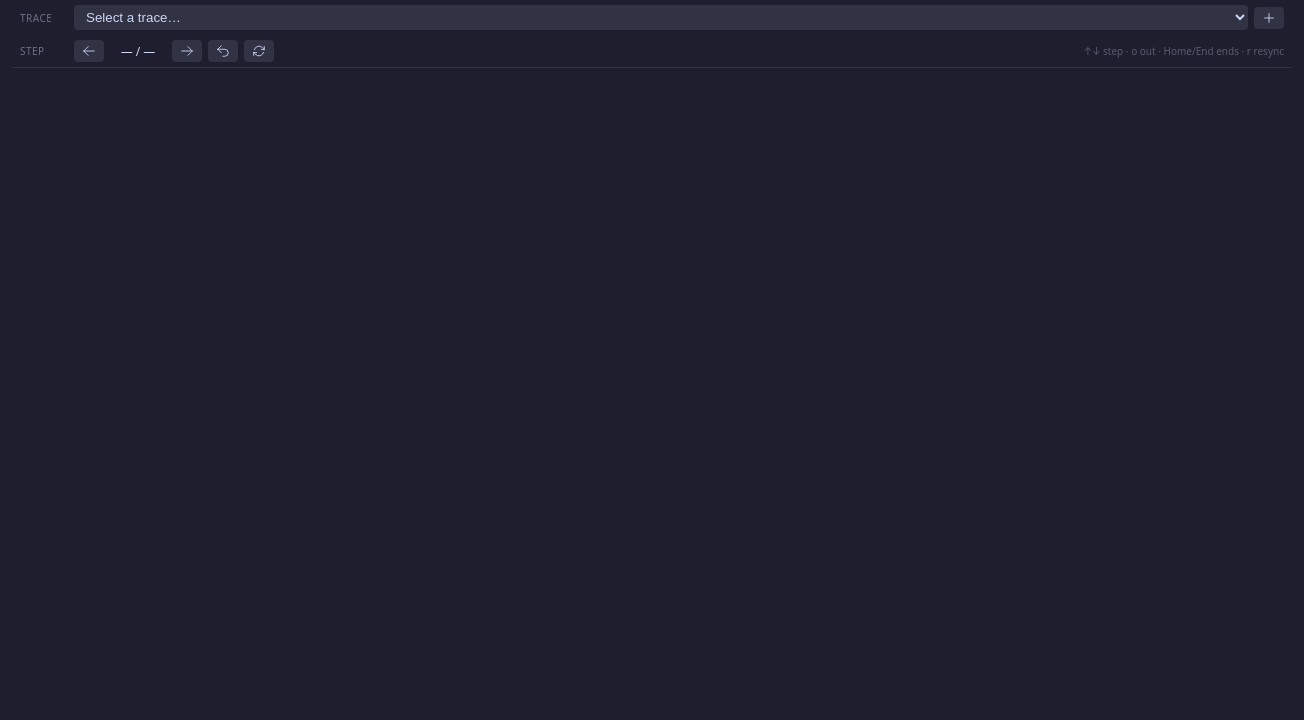
Scenario: DebugWalkthroughTile › step out › returns to the caller when the button is pressed
Select "pty::tests::resolves_shell (3 steps)" in the dropdown named "Trace": (661, 18) x1=74 y1=5 x2=1248 y2=30
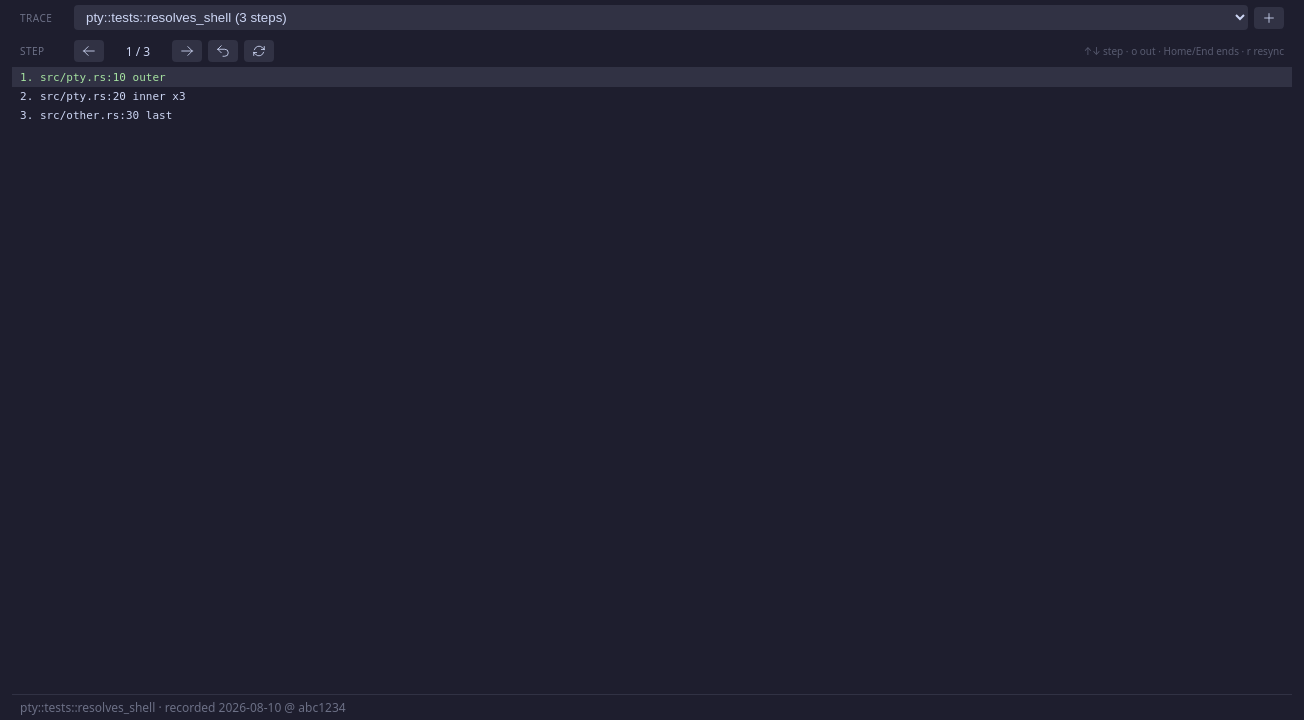
Expected: the button with test id "walkthrough-step-current" is shown, x1=12 y1=68 x2=1292 y2=87
Click the button named "Next step": (187, 51) x1=172 y1=40 x2=202 y2=62
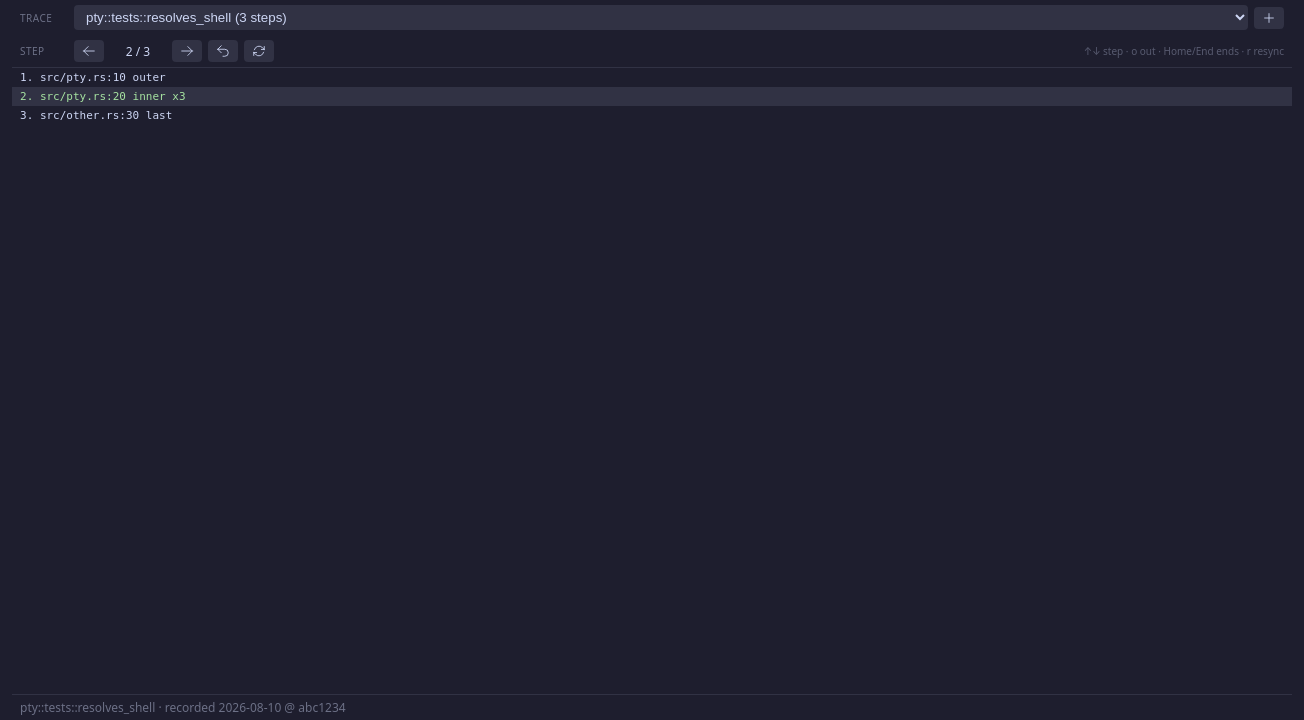
Expected: the text with test id "walkthrough-progress" reads "2 / 3", x1=126 y1=42 x2=150 y2=60
Click the button named "Step out": (223, 51) x1=208 y1=40 x2=238 y2=62
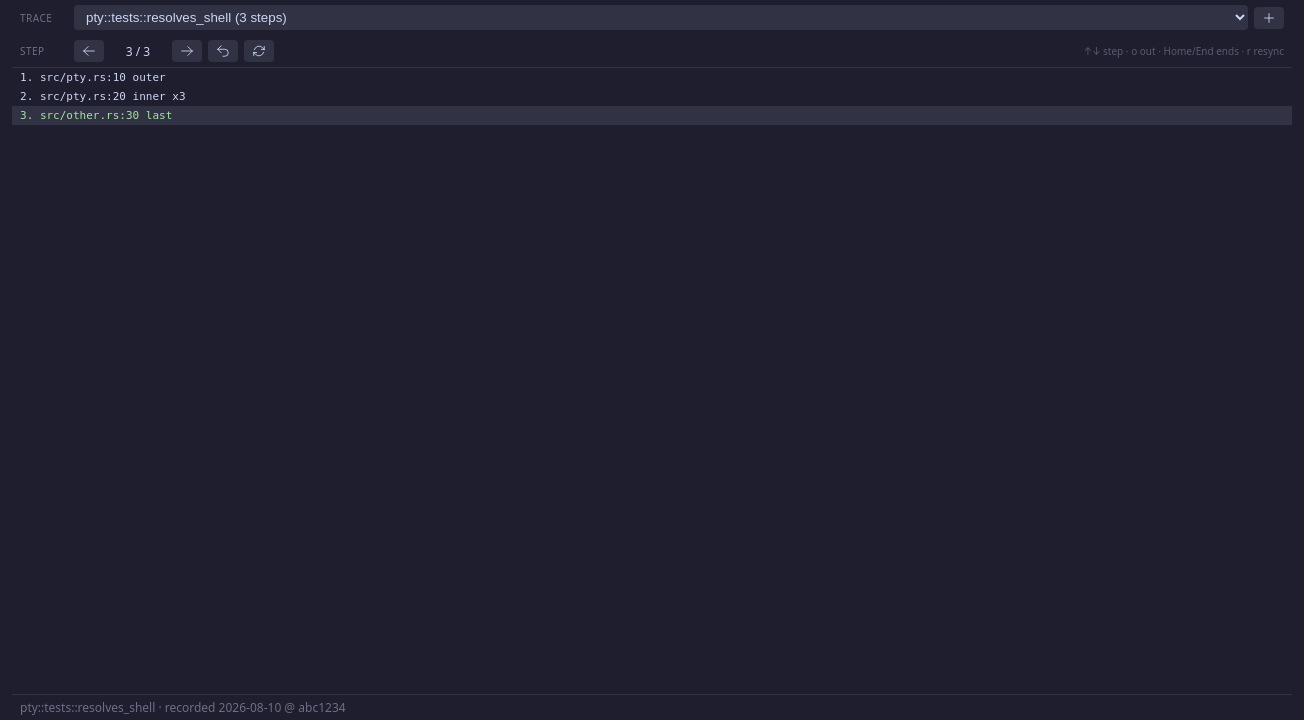
Expected: the text with test id "walkthrough-progress" reads "3 / 3", x1=126 y1=42 x2=150 y2=60
